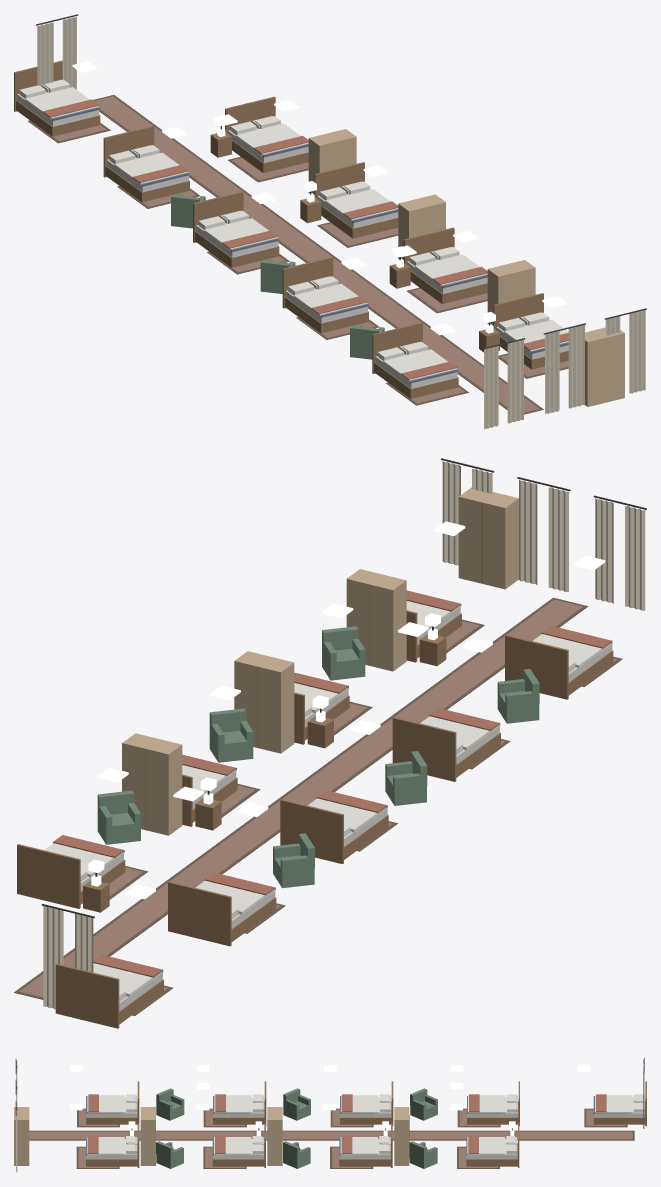
Rendered from fine-s3.glb.
3 renders of one model, top to bottom at view 1: azimuth 30°, elevation 25°; view 2: azimuth 150°, elevation 25°; view 3: azimuth 270°, elevation 25°, orthographic. The views are drawn at different scales.
Parts seen in each view (by area): view 1: soft-s3, dresser.011, bed-frame.025, bed-frame.023, bed-frame.026, bed-frame.024, bed-frame.019, bed-frame.020, bed-frame.018, bed-frame.022, dresser.008, dresser.010 (+5 smaller); view 2: soft-s3, dresser.011, dresser.009, dresser.010, dresser.008, bed-frame.022, bed-frame.023, bed-frame.018, bed-frame.025, bed-frame.026, bed-frame.024, lounge-chair.013 (+12 smaller); view 3: soft-s3, dresser.008, dresser.009, dresser.010, dresser.011, bed-frame.021, bed-frame.018, bed-frame.019, bed-frame.024, bed-frame.025, bed-frame.026, bed-frame.020 (+8 smaller).
Boxes of the visible parts, left/top/right/bottom form: soft-s3: left=19, top=14, right=646, bottom=429; dresser.011: left=585, top=327, right=624, bottom=406; bed-frame.025: left=282, top=257, right=368, bottom=333; bed-frame.023: left=103, top=126, right=189, bottom=202; bed-frame.026: left=372, top=322, right=458, bottom=398; bed-frame.024: left=193, top=191, right=279, bottom=267; bed-frame.019: left=314, top=162, right=398, bottom=238; bed-frame.020: left=403, top=227, right=487, bottom=303; bed-frame.018: left=225, top=96, right=308, bottom=172; bed-frame.022: left=14, top=60, right=100, bottom=136; dresser.008: left=308, top=129, right=356, bottom=194; dresser.010: left=487, top=260, right=535, bottom=325; soft-s3: left=14, top=458, right=646, bottom=1015; dresser.011: left=458, top=487, right=518, bottom=589; dresser.009: left=234, top=651, right=294, bottom=753; dresser.010: left=346, top=569, right=406, bottom=671; dresser.008: left=122, top=733, right=182, bottom=835; bed-frame.022: left=55, top=963, right=163, bottom=1028; bed-frame.023: left=168, top=881, right=276, bottom=946; bed-frame.018: left=17, top=844, right=125, bottom=908; bed-frame.025: left=392, top=717, right=500, bottom=781; bed-frame.026: left=505, top=635, right=613, bottom=699; bed-frame.024: left=280, top=799, right=388, bottom=863; lounge-chair.013: left=209, top=708, right=253, bottom=762; soft-s3: left=15, top=1057, right=644, bottom=1172; dresser.008: left=394, top=1107, right=409, bottom=1165; dresser.009: left=267, top=1107, right=282, bottom=1165; dresser.010: left=140, top=1107, right=155, bottom=1165; dresser.011: left=14, top=1107, right=29, bottom=1165; bed-frame.021: left=86, top=1123, right=139, bottom=1167; bed-frame.018: left=466, top=1123, right=519, bottom=1167; bed-frame.019: left=339, top=1123, right=392, bottom=1167; bed-frame.024: left=340, top=1081, right=393, bottom=1125; bed-frame.025: left=213, top=1081, right=266, bottom=1125; bed-frame.026: left=86, top=1081, right=139, bottom=1124; bed-frame.020: left=212, top=1123, right=265, bottom=1167.
Size of the model in its own units: 6.05 by 2.56 by 24.96.
